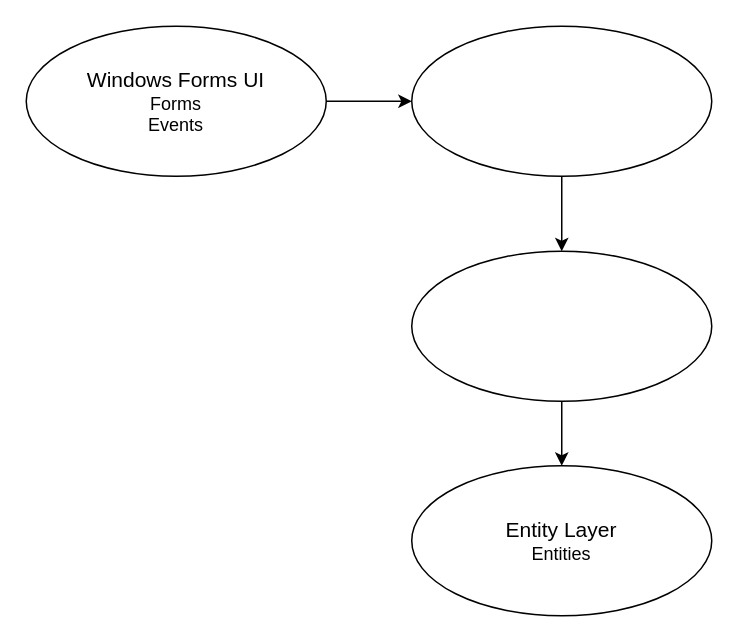
This 738x642 diagram has some shape labels left out. The centre of each missing label's shape, as x and y in pixels:
"Business Layer Repository Services Fluent Validation" belongs at pixel 561 100.
"DataAccess Layer Generic Repository Pattern EntityFramework" belongs at pixel 561 325.
